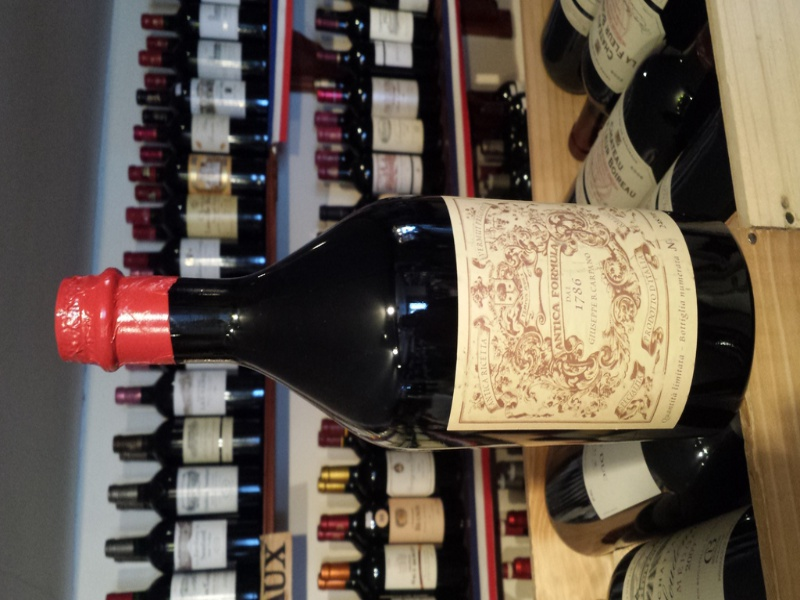wine: (99, 4, 759, 600), (43, 192, 761, 455)
